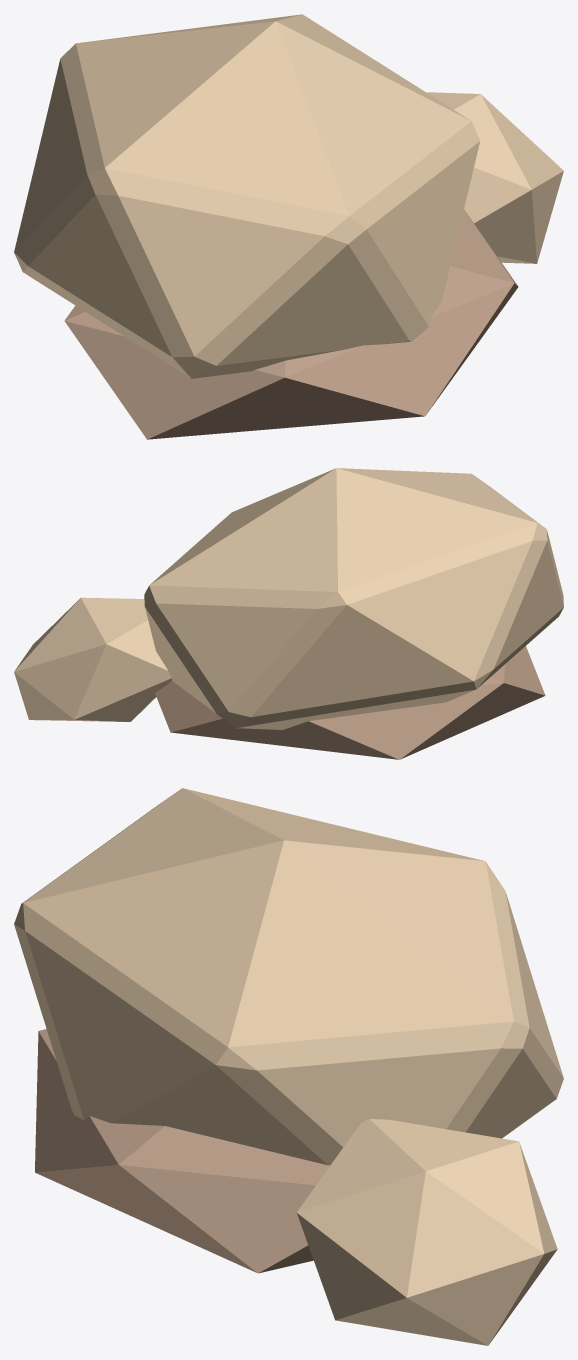
File: rock_desert_medium.glb
The picture shows the model from 3 angles, top to bottom: view 1: azimuth 30°, elevation 25°; view 2: azimuth 150°, elevation 25°; view 3: azimuth 270°, elevation 25°; orthographic projection. The views are drawn at different scales.
Parts seen in each view (by area): view 1: Rock, RockBase, RockChip; view 2: Rock, RockChip, RockBase; view 3: Rock, RockChip, RockBase.
Part boxes in pixels (bbox=[...]): Rock: bbox=[14, 14, 480, 378]; RockBase: bbox=[64, 209, 518, 439]; RockChip: bbox=[426, 92, 563, 263]; Rock: bbox=[144, 468, 563, 729]; RockChip: bbox=[14, 597, 171, 721]; RockBase: bbox=[155, 646, 545, 759]; Rock: bbox=[14, 788, 563, 1165]; RockChip: bbox=[296, 1119, 557, 1345]; RockBase: bbox=[35, 1029, 329, 1273].
Size of the model in its own units: 0.9797 by 0.5749 by 0.7882.
